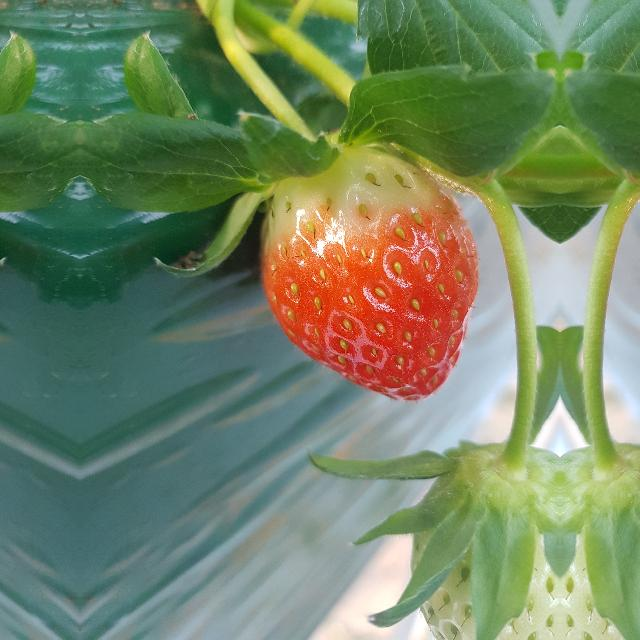Health_100: (260, 147, 480, 403)
Health_25: (396, 437, 560, 639), (560, 437, 640, 639)
